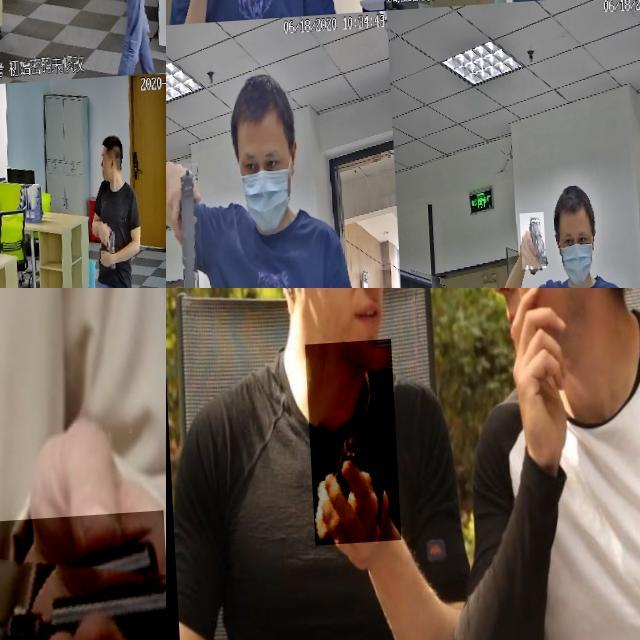-: (303, 342, 397, 548)
gun-knife-thesis - v11 Yolov5 augmented: (0, 518, 166, 640), (482, 0, 537, 79), (166, 164, 199, 288), (175, 0, 221, 71), (514, 219, 540, 276), (93, 226, 111, 274), (125, 0, 146, 23)
